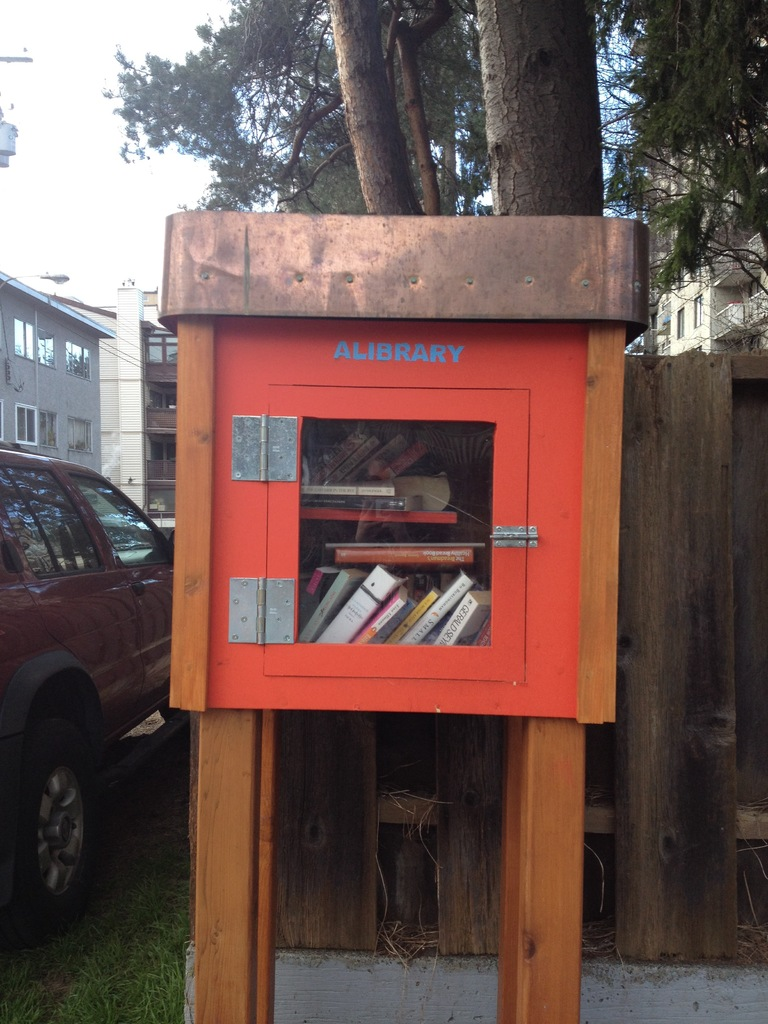Car: (0, 439, 176, 934), (58, 506, 176, 567)
